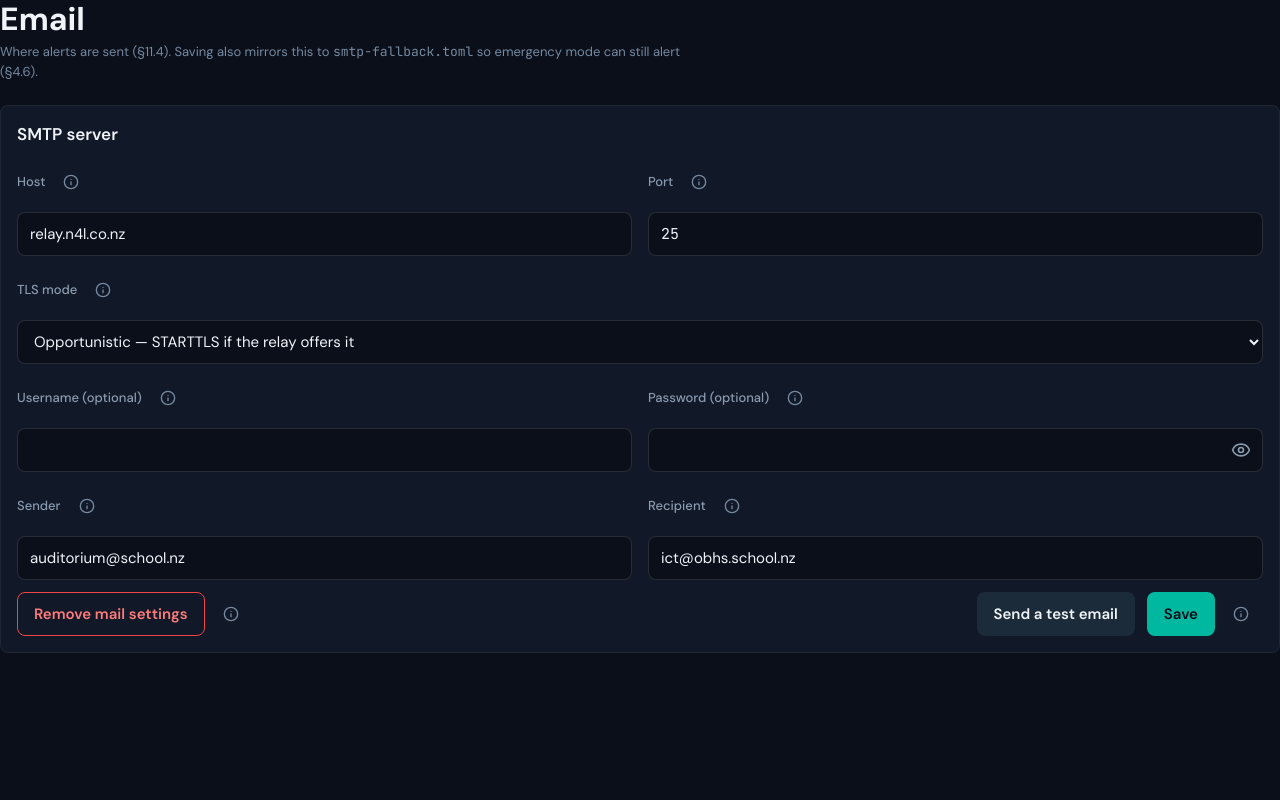
it: EmailScreen — removing the mail settings (DELETE /system/email) › reports a failure inline rather than silently
The image size is (1280, 800).
Expected: the field showing "relay.n4l.co.nz" is shown, x1=17 y1=212 x2=632 y2=256
Click the button "Remove mail settings": {"x": 111, "y": 614} x1=17 y1=592 x2=205 y2=636
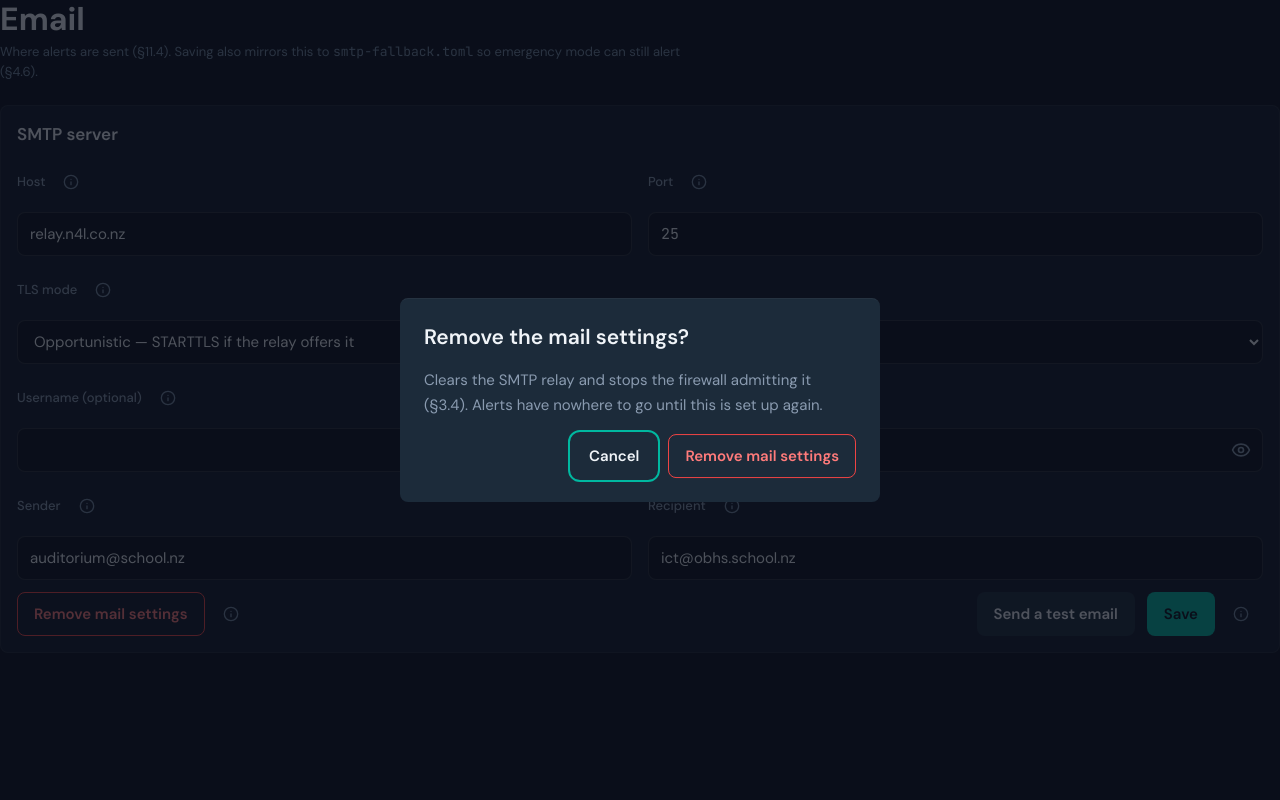
Click the button "Remove mail settings": {"x": 762, "y": 456} x1=668 y1=434 x2=856 y2=478
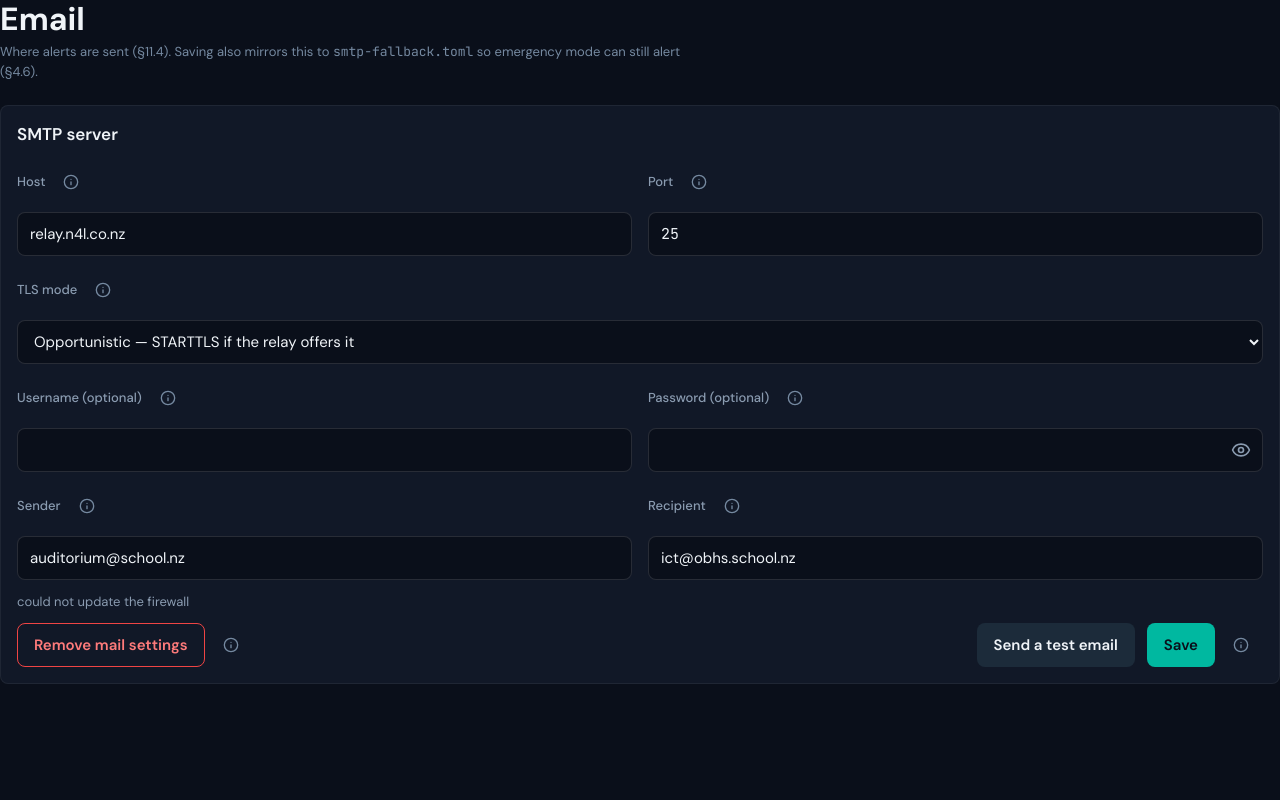
Now the text "could not update the firewall" is shown, box x1=17 y1=593 x2=189 y2=610
